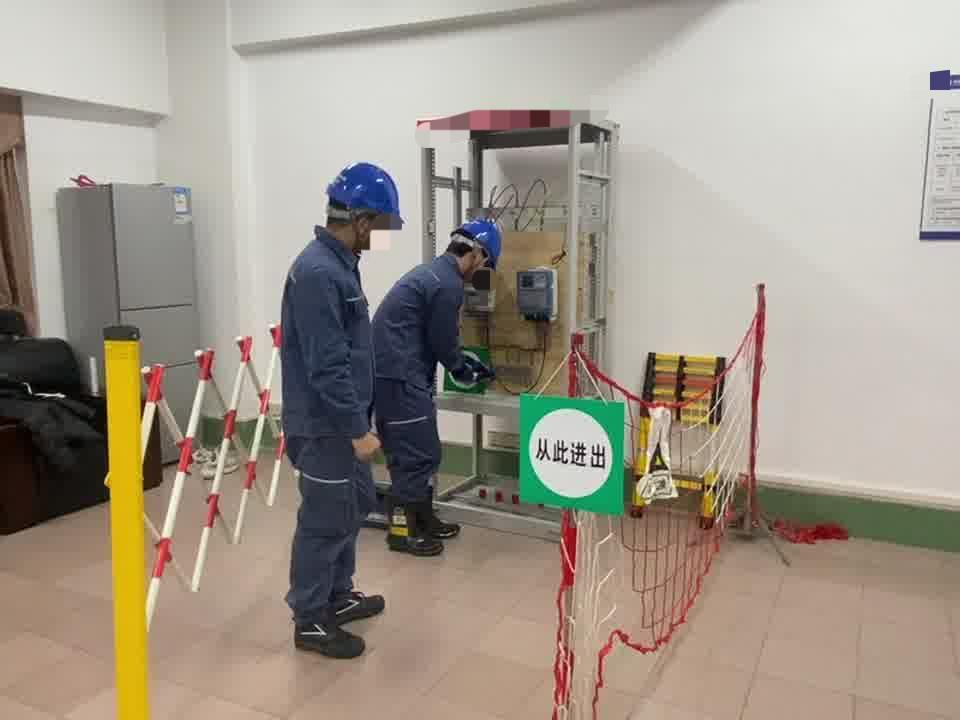halt: (325, 162, 407, 254), (450, 219, 508, 286)
inear: (349, 211, 377, 250), (464, 246, 490, 279)
